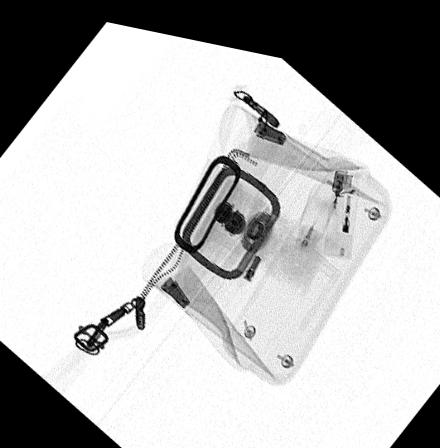Lighter: (322, 155, 360, 245)
